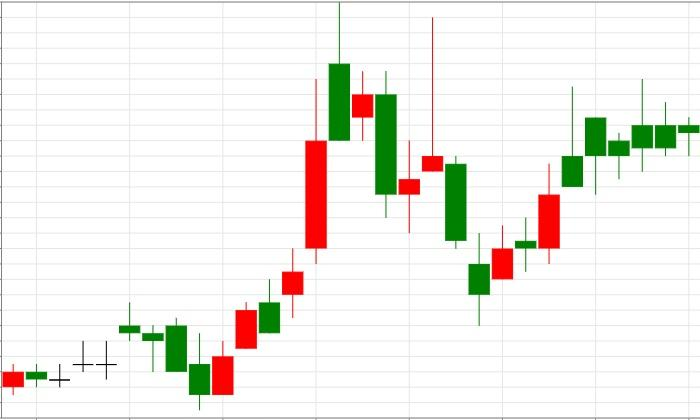bearish_engulfing_fall: (188, 2, 398, 411)
